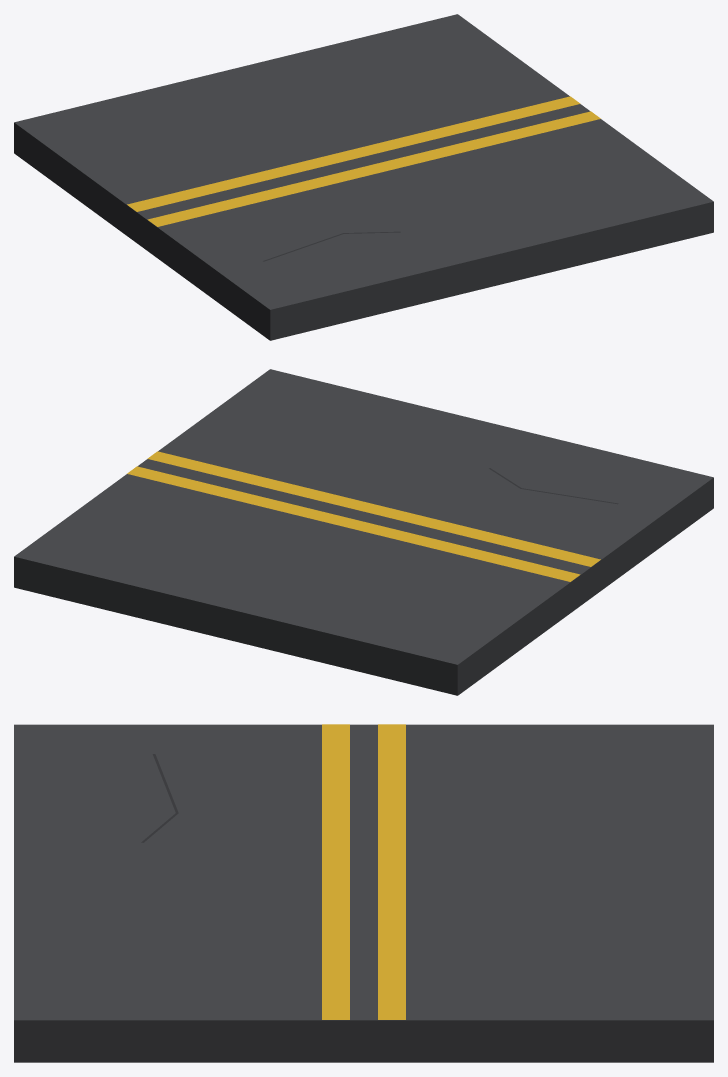
The model's file is SC_Gnd_Road_CenterLine_3x3.gltf.
3 renders of one model, top to bottom at view 1: azimuth 30°, elevation 25°; view 2: azimuth 150°, elevation 25°; view 3: azimuth 270°, elevation 25°, orthographic. The views are drawn at different scales.
Parts seen in each view (by area): view 1: SC_Gnd_Road_CenterLine_3x3; view 2: SC_Gnd_Road_CenterLine_3x3; view 3: SC_Gnd_Road_CenterLine_3x3.
Part boxes in pixels (left/top/right/bottom): SC_Gnd_Road_CenterLine_3x3: left=14, top=14, right=713, bottom=340; SC_Gnd_Road_CenterLine_3x3: left=14, top=369, right=713, bottom=695; SC_Gnd_Road_CenterLine_3x3: left=14, top=724, right=713, bottom=1062.
Bounding box in the file's own units: 3 × 0.202 × 3.
Materials: 1 (1 with a texture image).
